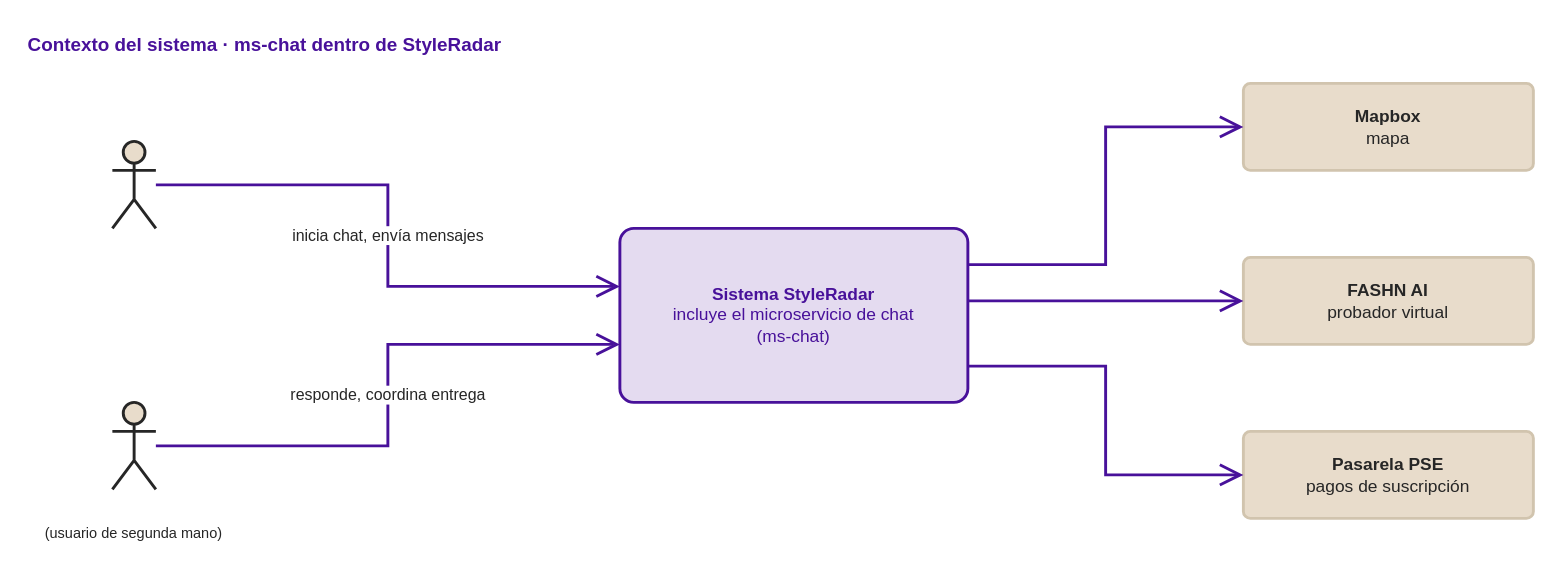
Some shapes in this 1559 by 571 pixel diagram are drawn without their labels. The shapes that lost their labels are listed below. From the top down, each one's centre as x and y in pixels, then its label:
At point (133, 184): "Comprador".
At point (133, 445): "Vendedor".
